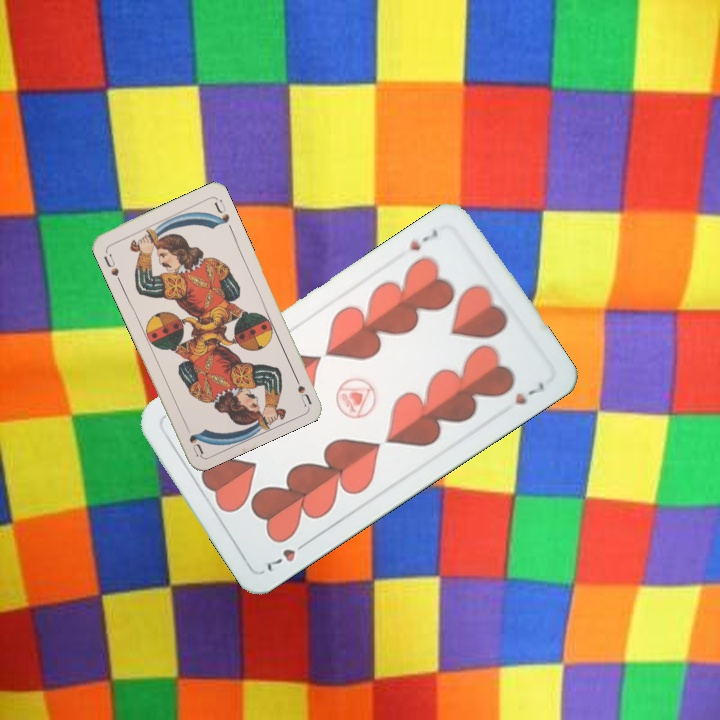H7: (262, 536, 312, 574), (405, 225, 441, 254)
SU: (289, 368, 314, 408), (100, 250, 123, 285)
